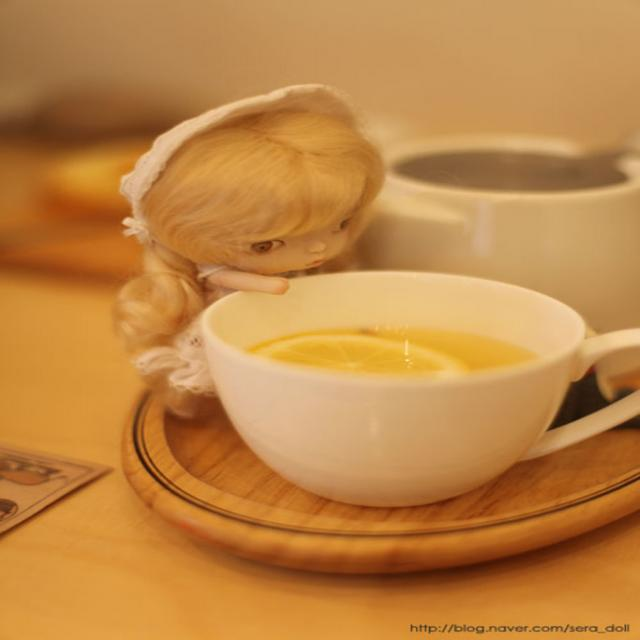Tea: (255, 323, 528, 378)
